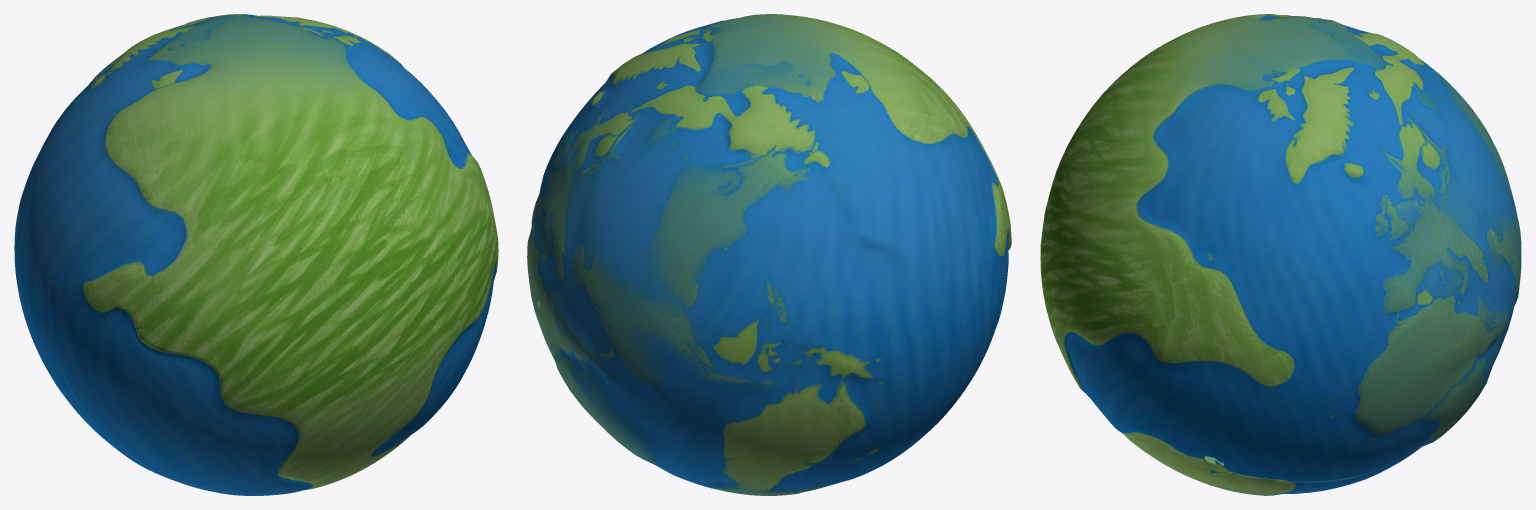
Rendered from earth.glb.
The picture shows the model from 3 angles, left to right: view 1: azimuth 30°, elevation 25°; view 2: azimuth 150°, elevation 25°; view 3: azimuth 270°, elevation 25°; orthographic projection.
Visible parts, largest first — view 1: tripo_node_3384c5e6-c4db-4e82-8412-70ddd09e0c7a; view 2: tripo_node_3384c5e6-c4db-4e82-8412-70ddd09e0c7a; view 3: tripo_node_3384c5e6-c4db-4e82-8412-70ddd09e0c7a.
Boxes of the visible parts, <box> form: tripo_node_3384c5e6-c4db-4e82-8412-70ddd09e0c7a: <box>14,14,498,495</box>; tripo_node_3384c5e6-c4db-4e82-8412-70ddd09e0c7a: <box>527,14,1011,495</box>; tripo_node_3384c5e6-c4db-4e82-8412-70ddd09e0c7a: <box>1040,14,1521,495</box>.
Bounding box in the file's own units: 0.9775 × 0.9759 × 0.9775.
Materials: 1 (1 with a texture image).
